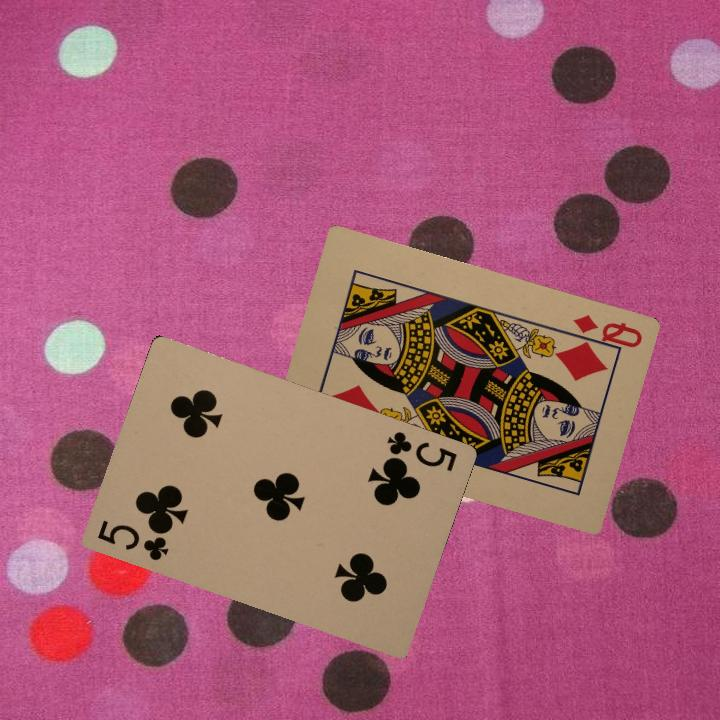5c: (92, 516, 171, 564), (383, 427, 460, 474)
Qd: (560, 310, 645, 352)
